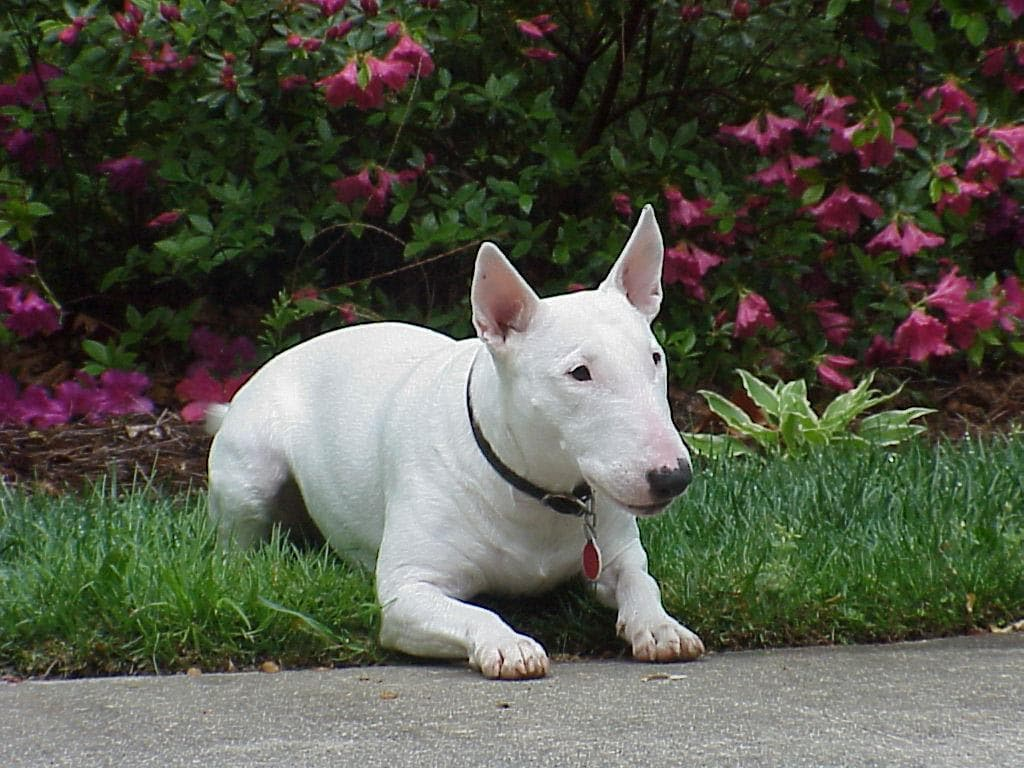bull_terrier: (204, 203, 704, 680)
